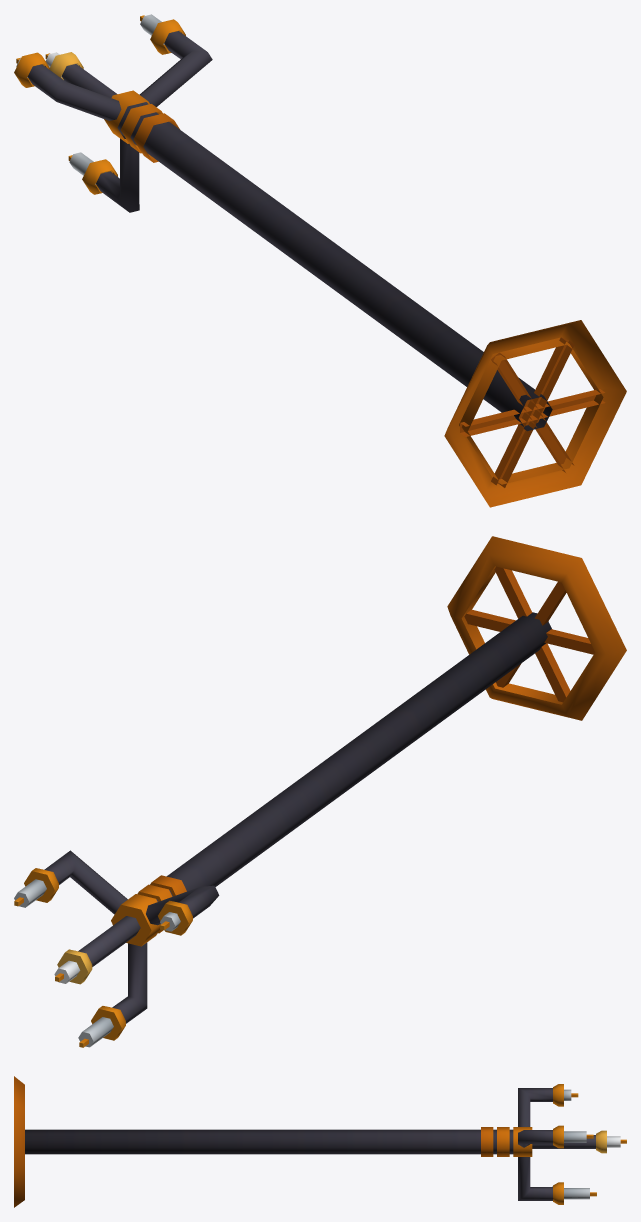
Rendered from Candle Stand 01.FBX.
3 renders of one model, top to bottom at view 1: azimuth 30°, elevation 25°; view 2: azimuth 150°, elevation 25°; view 3: azimuth 270°, elevation 25°, orthographic. The views are drawn at different scales.
Visible parts, largest first — view 1: Candle Stand 01; view 2: Candle Stand 01; view 3: Candle Stand 01.
Boxes of the visible parts, x1,y1,x2,y2 form: Candle Stand 01: [14, 14, 626, 507]; Candle Stand 01: [14, 536, 626, 1047]; Candle Stand 01: [14, 1076, 626, 1207].
Bounding box in the file's own units: 40.76 × 38.25 × 189.
